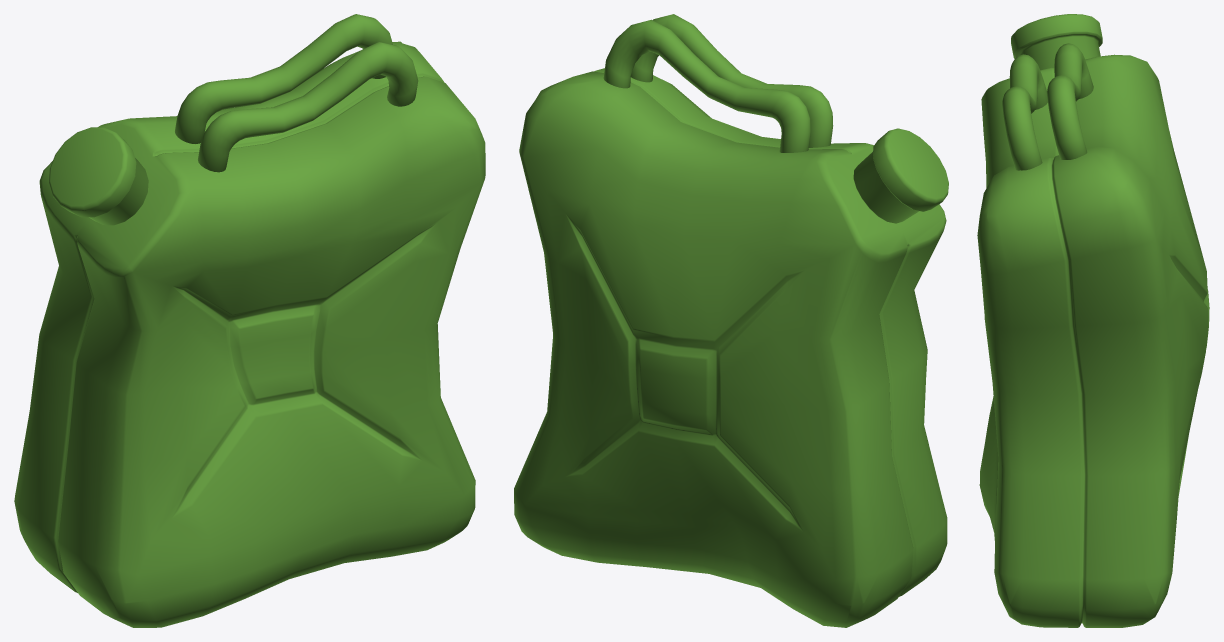
The model's file is canister2.fbx.
3 views of the same model, side by side, from view 1: azimuth 30°, elevation 25°; view 2: azimuth 150°, elevation 25°; view 3: azimuth 270°, elevation 25° (orthographic). The views are drawn at different scales.
Visible parts, largest first — view 1: Cube.001; view 2: Cube.001; view 3: Cube.001.
Part boxes in pixels (x1,y1,x2,y2): Cube.001: [14, 14, 485, 627]; Cube.001: [514, 14, 948, 627]; Cube.001: [977, 14, 1209, 627].
Bounding box in the file's own units: 1.16 × 1.5 × 0.6006.
